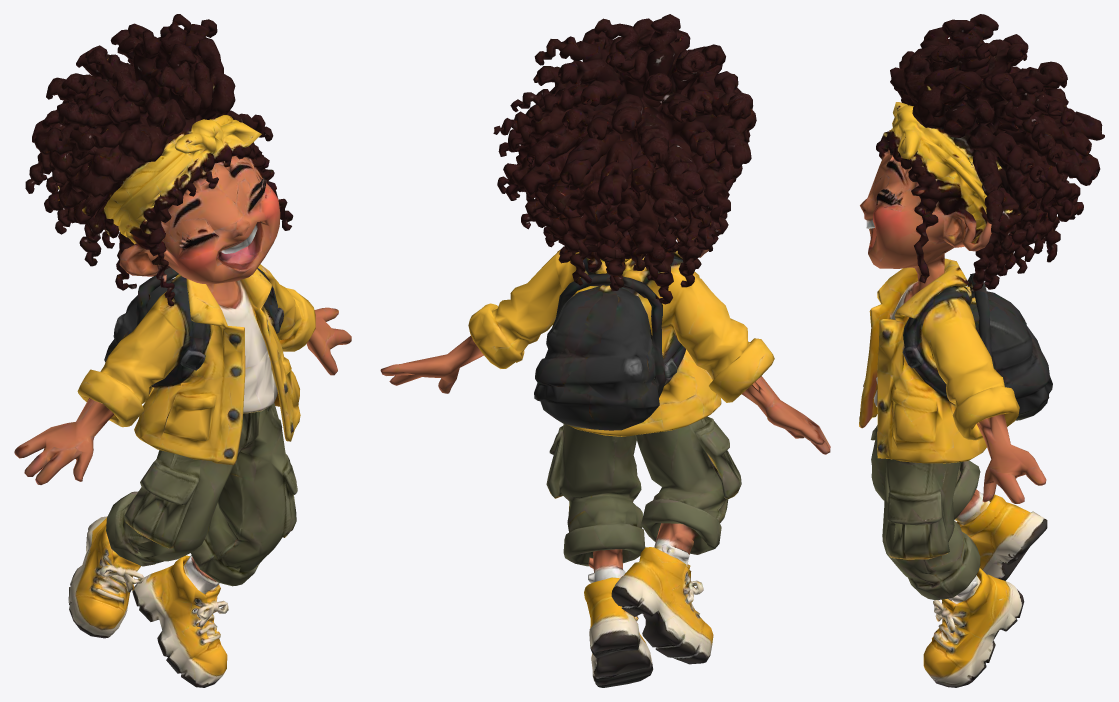
The model's file is float.glb.
3 renders of one model, left to right at view 1: azimuth 30°, elevation 25°; view 2: azimuth 150°, elevation 25°; view 3: azimuth 270°, elevation 25°, orthographic. The views are drawn at different scales.
Bounding box in the file's own units: 1.13 × 1.89 × 0.6581.
1 material, 1 textured.
